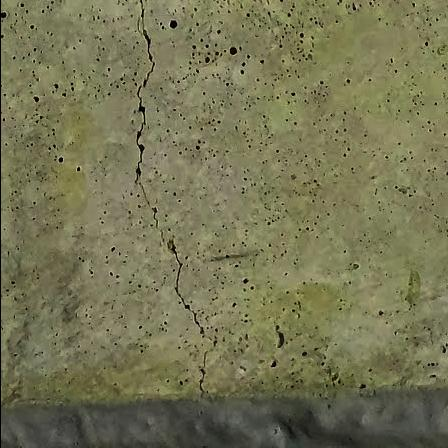crack: (94, 0, 229, 402)
